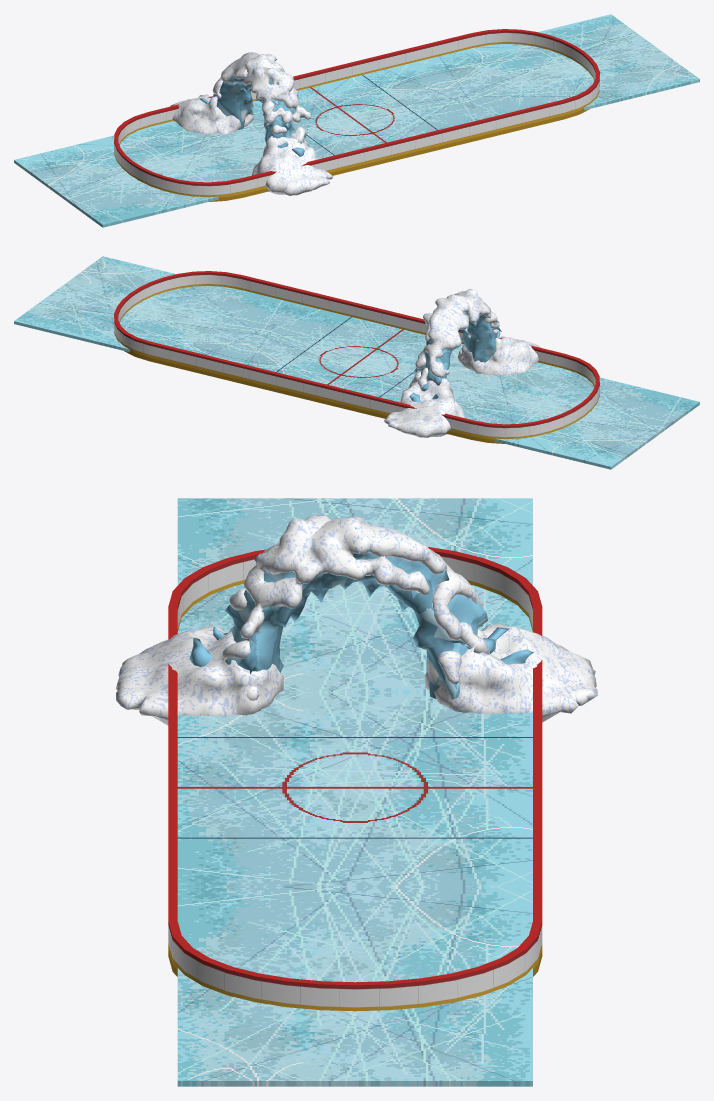
File: Canada Stage.fbx
The picture shows the model from 3 angles, top to bottom: view 1: azimuth 30°, elevation 25°; view 2: azimuth 150°, elevation 25°; view 3: azimuth 270°, elevation 25°; orthographic projection. The views are drawn at different scales.
Parts seen in each view (by area): view 1: Cube.010, Cube.024, Cube.011, Cube.009, SnowBall.001, Icosphere, Circle, Icosphere.001; view 2: Cube.010, Cube.024, Cube.011, Cube.009, SnowBall.001, Icosphere.001, Icosphere, Circle; view 3: Cube.009, Cube.010, Cube.011, Cube.024, SnowBall.001, Circle, Icosphere, Icosphere.001.
Part boxes in pixels (x1,y1,x2,y2): Cube.010: [412, 14, 699, 117]; Cube.024: [114, 29, 599, 201]; Cube.011: [14, 121, 263, 227]; Cube.009: [239, 63, 486, 159]; SnowBall.001: [212, 52, 311, 143]; Icosphere: [252, 136, 333, 195]; Circle: [199, 59, 306, 156]; Icosphere.001: [170, 94, 253, 134]; Cube.010: [14, 256, 301, 359]; Cube.024: [114, 271, 599, 443]; Cube.011: [452, 362, 699, 469]; Cube.009: [227, 305, 474, 402]; SnowBall.001: [411, 289, 499, 390]; Icosphere.001: [384, 378, 464, 437]; Icosphere: [458, 336, 540, 375]; Circle: [409, 297, 501, 402]; Cube.009: [177, 692, 532, 886]; Cube.010: [177, 886, 532, 1086]; Cube.011: [177, 498, 532, 692]; Cube.024: [168, 547, 542, 1011]; SnowBall.001: [222, 515, 489, 700]; Circle: [189, 527, 533, 715]; Icosphere: [116, 625, 283, 725]; Icosphere.001: [425, 623, 597, 722].
Size of the model in its own units: 4353 by 736 by 1523.
